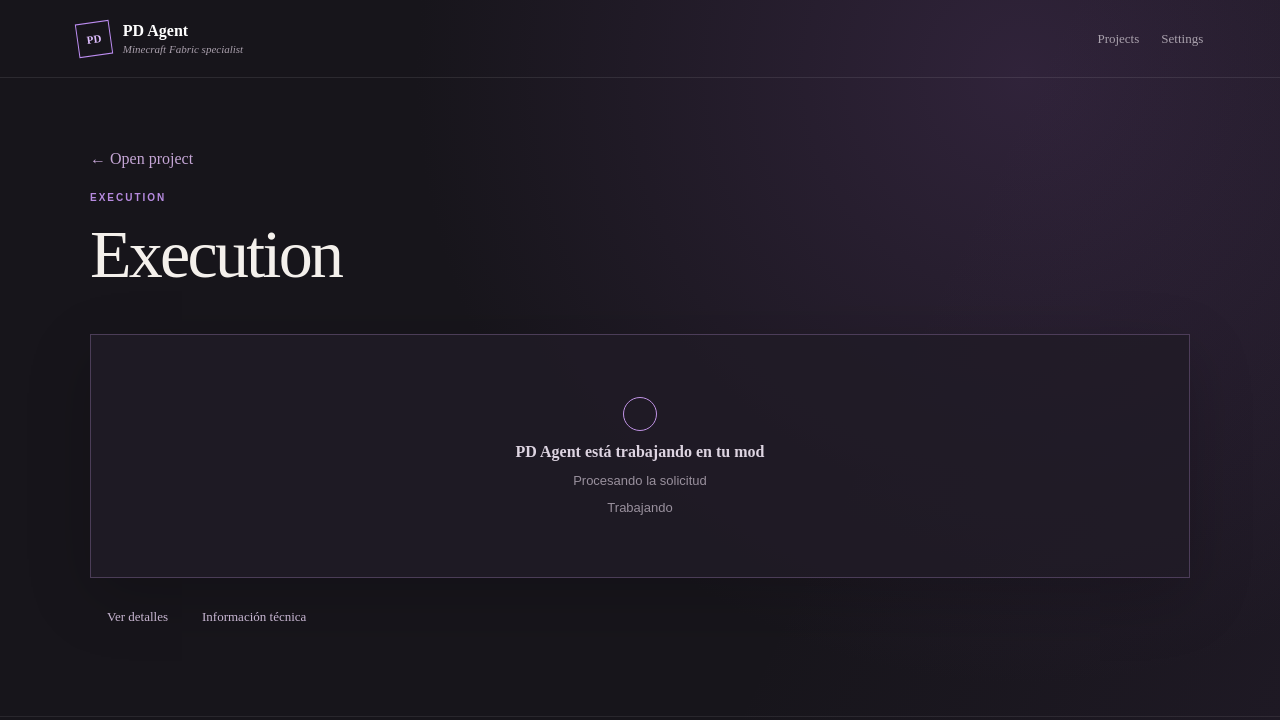
Test: frontend route and state foundations › supports technical details
Click the button "Información técnica". click: click(254, 617)
box: left=185, top=598, right=323, bottom=636
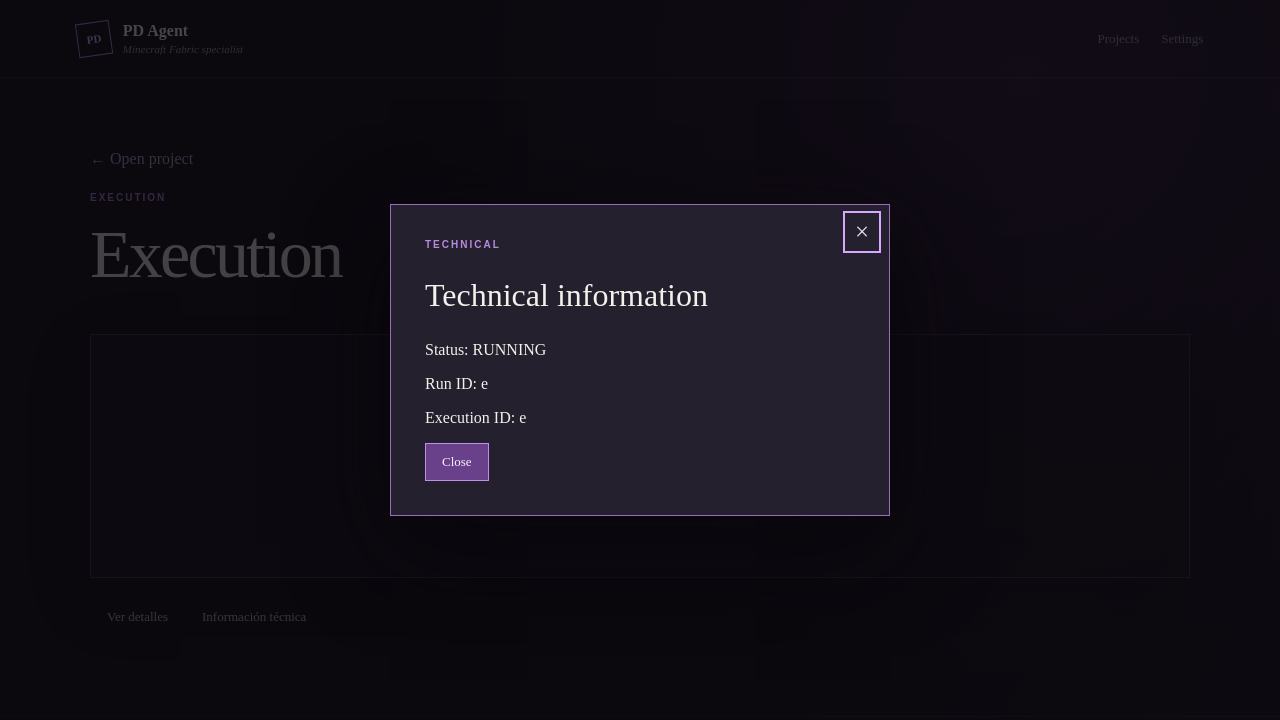
Expected: the dialog shows "Technical information", left=425, top=277, right=708, bottom=313
